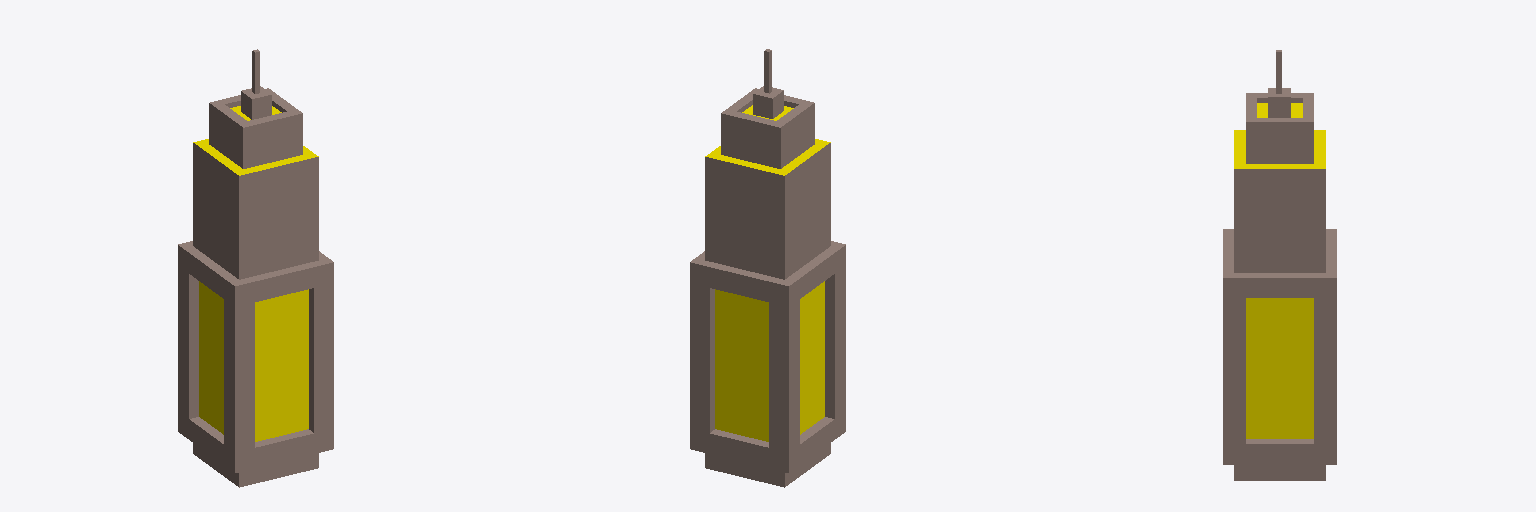
File: low_buildingF_CyPk.obj
3 renders of one model, left to right at view 1: azimuth 30°, elevation 25°; view 2: azimuth 150°, elevation 25°; view 3: azimuth 270°, elevation 25°, orthographic.
Visible parts, largest first — view 1: low_buildingF; view 2: low_buildingF; view 3: low_buildingF.
Part boxes in pixels (x1,y1,x2,y2): low_buildingF: (178, 49, 333, 487); low_buildingF: (690, 49, 845, 487); low_buildingF: (1223, 50, 1336, 480).
Size of the model in its own units: 0.5 by 1.98 by 0.5.